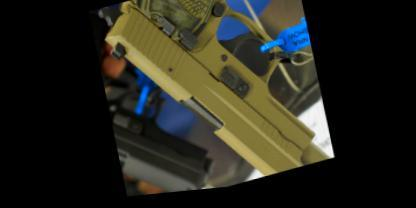pistol: (95, 0, 330, 200)
